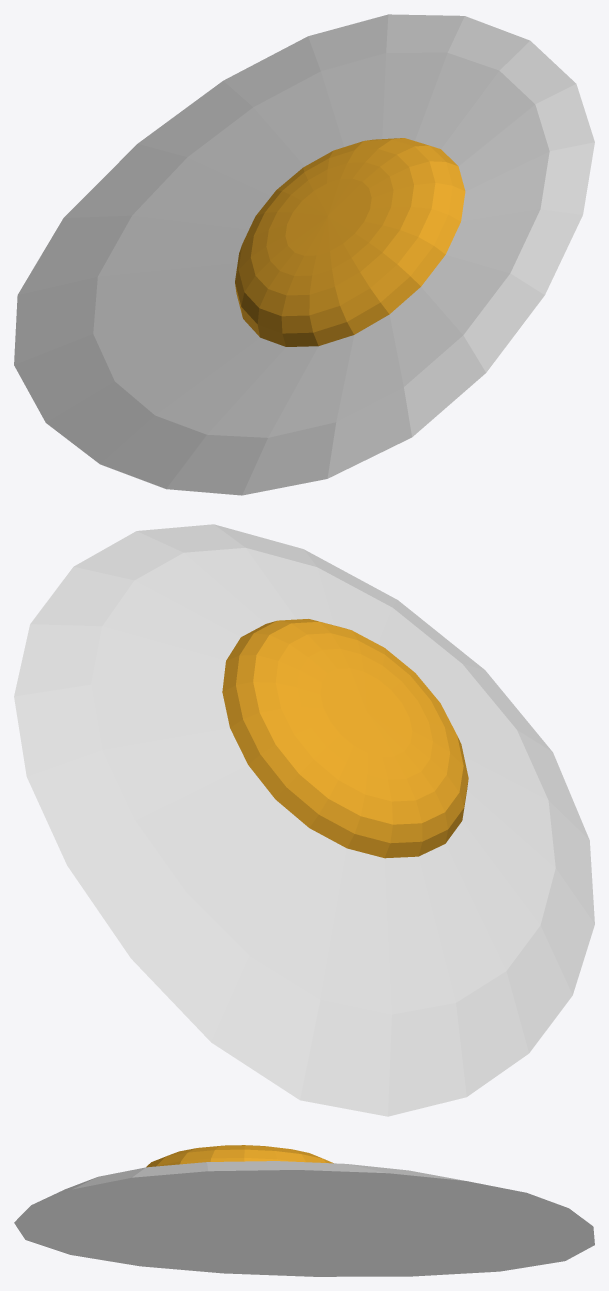
The model's file is Egg.fbx.
3 views of the same model, one above another, from view 1: azimuth 30°, elevation 25°; view 2: azimuth 150°, elevation 25°; view 3: azimuth 270°, elevation 25° (orthographic). The views are drawn at different scales.
Visible parts, largest first — view 1: Egg; view 2: Egg; view 3: Egg.
Boxes of the visible parts, bbox=[...] form: Egg: bbox=[14, 14, 594, 495]; Egg: bbox=[14, 524, 594, 1116]; Egg: bbox=[14, 1145, 594, 1276].
Size of the model in its own units: 112 by 83.59 by 154.
